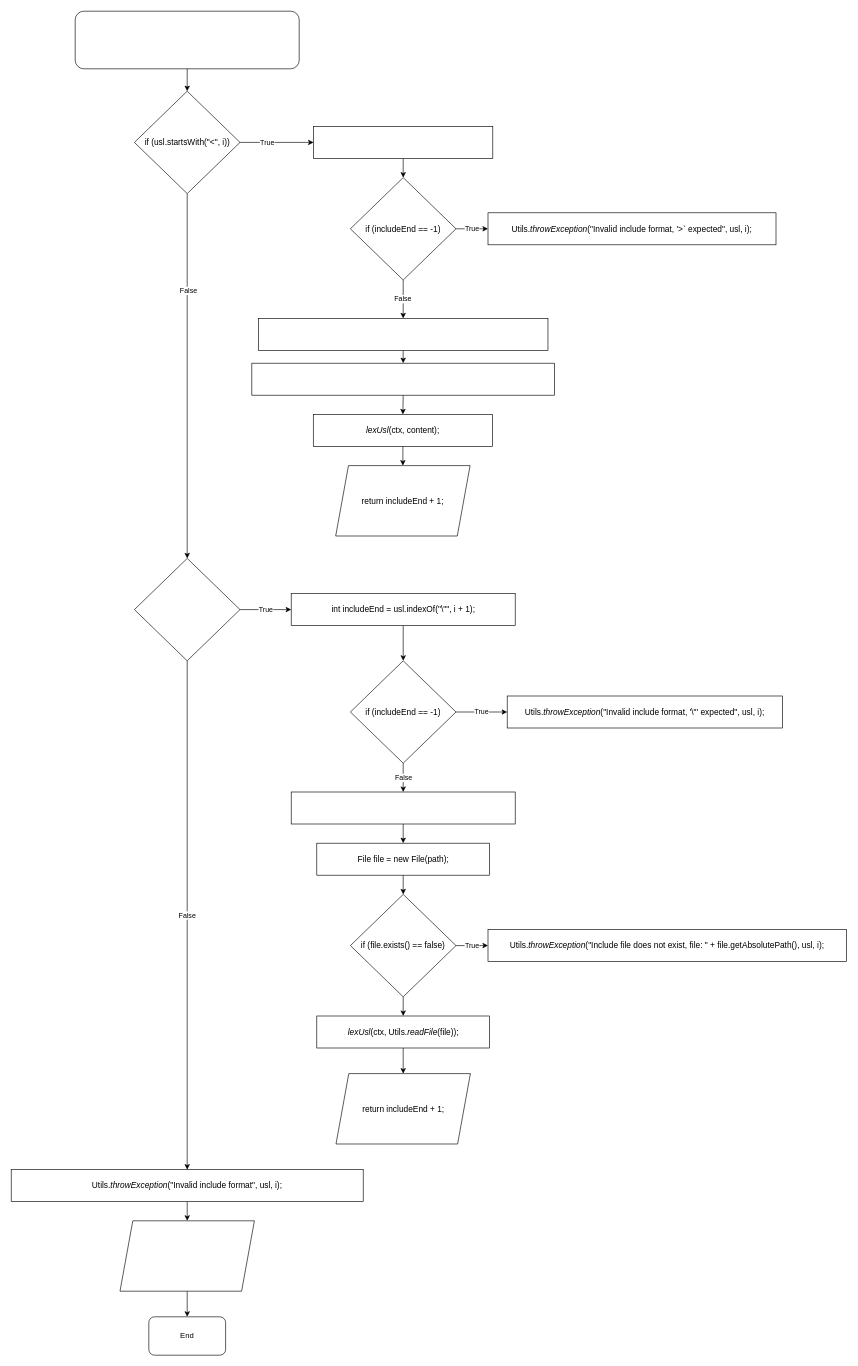
This 858x1366 diagram has some shape labels left out. Each missing label, with the box of its shape:
if (usl.startsWith( " \" " , i)): (134, 558, 240, 661)
int includeEnd = usl.indexOf( ">" , i) ;: (313, 126, 493, 158)
return - 1 ;: (119, 1220, 254, 1291)
Start parseAndLexInclude (LexerContext ctx , String usl , int i): (75, 11, 299, 69)
String content = includeLoader .loadInclude(includeName) ;: (251, 363, 555, 395)
String includeName = usl.substring(i + 1 , includeEnd) ;: (258, 318, 548, 350)
String path = usl.substring(i + 1 , includeEnd) ;: (291, 791, 515, 824)
